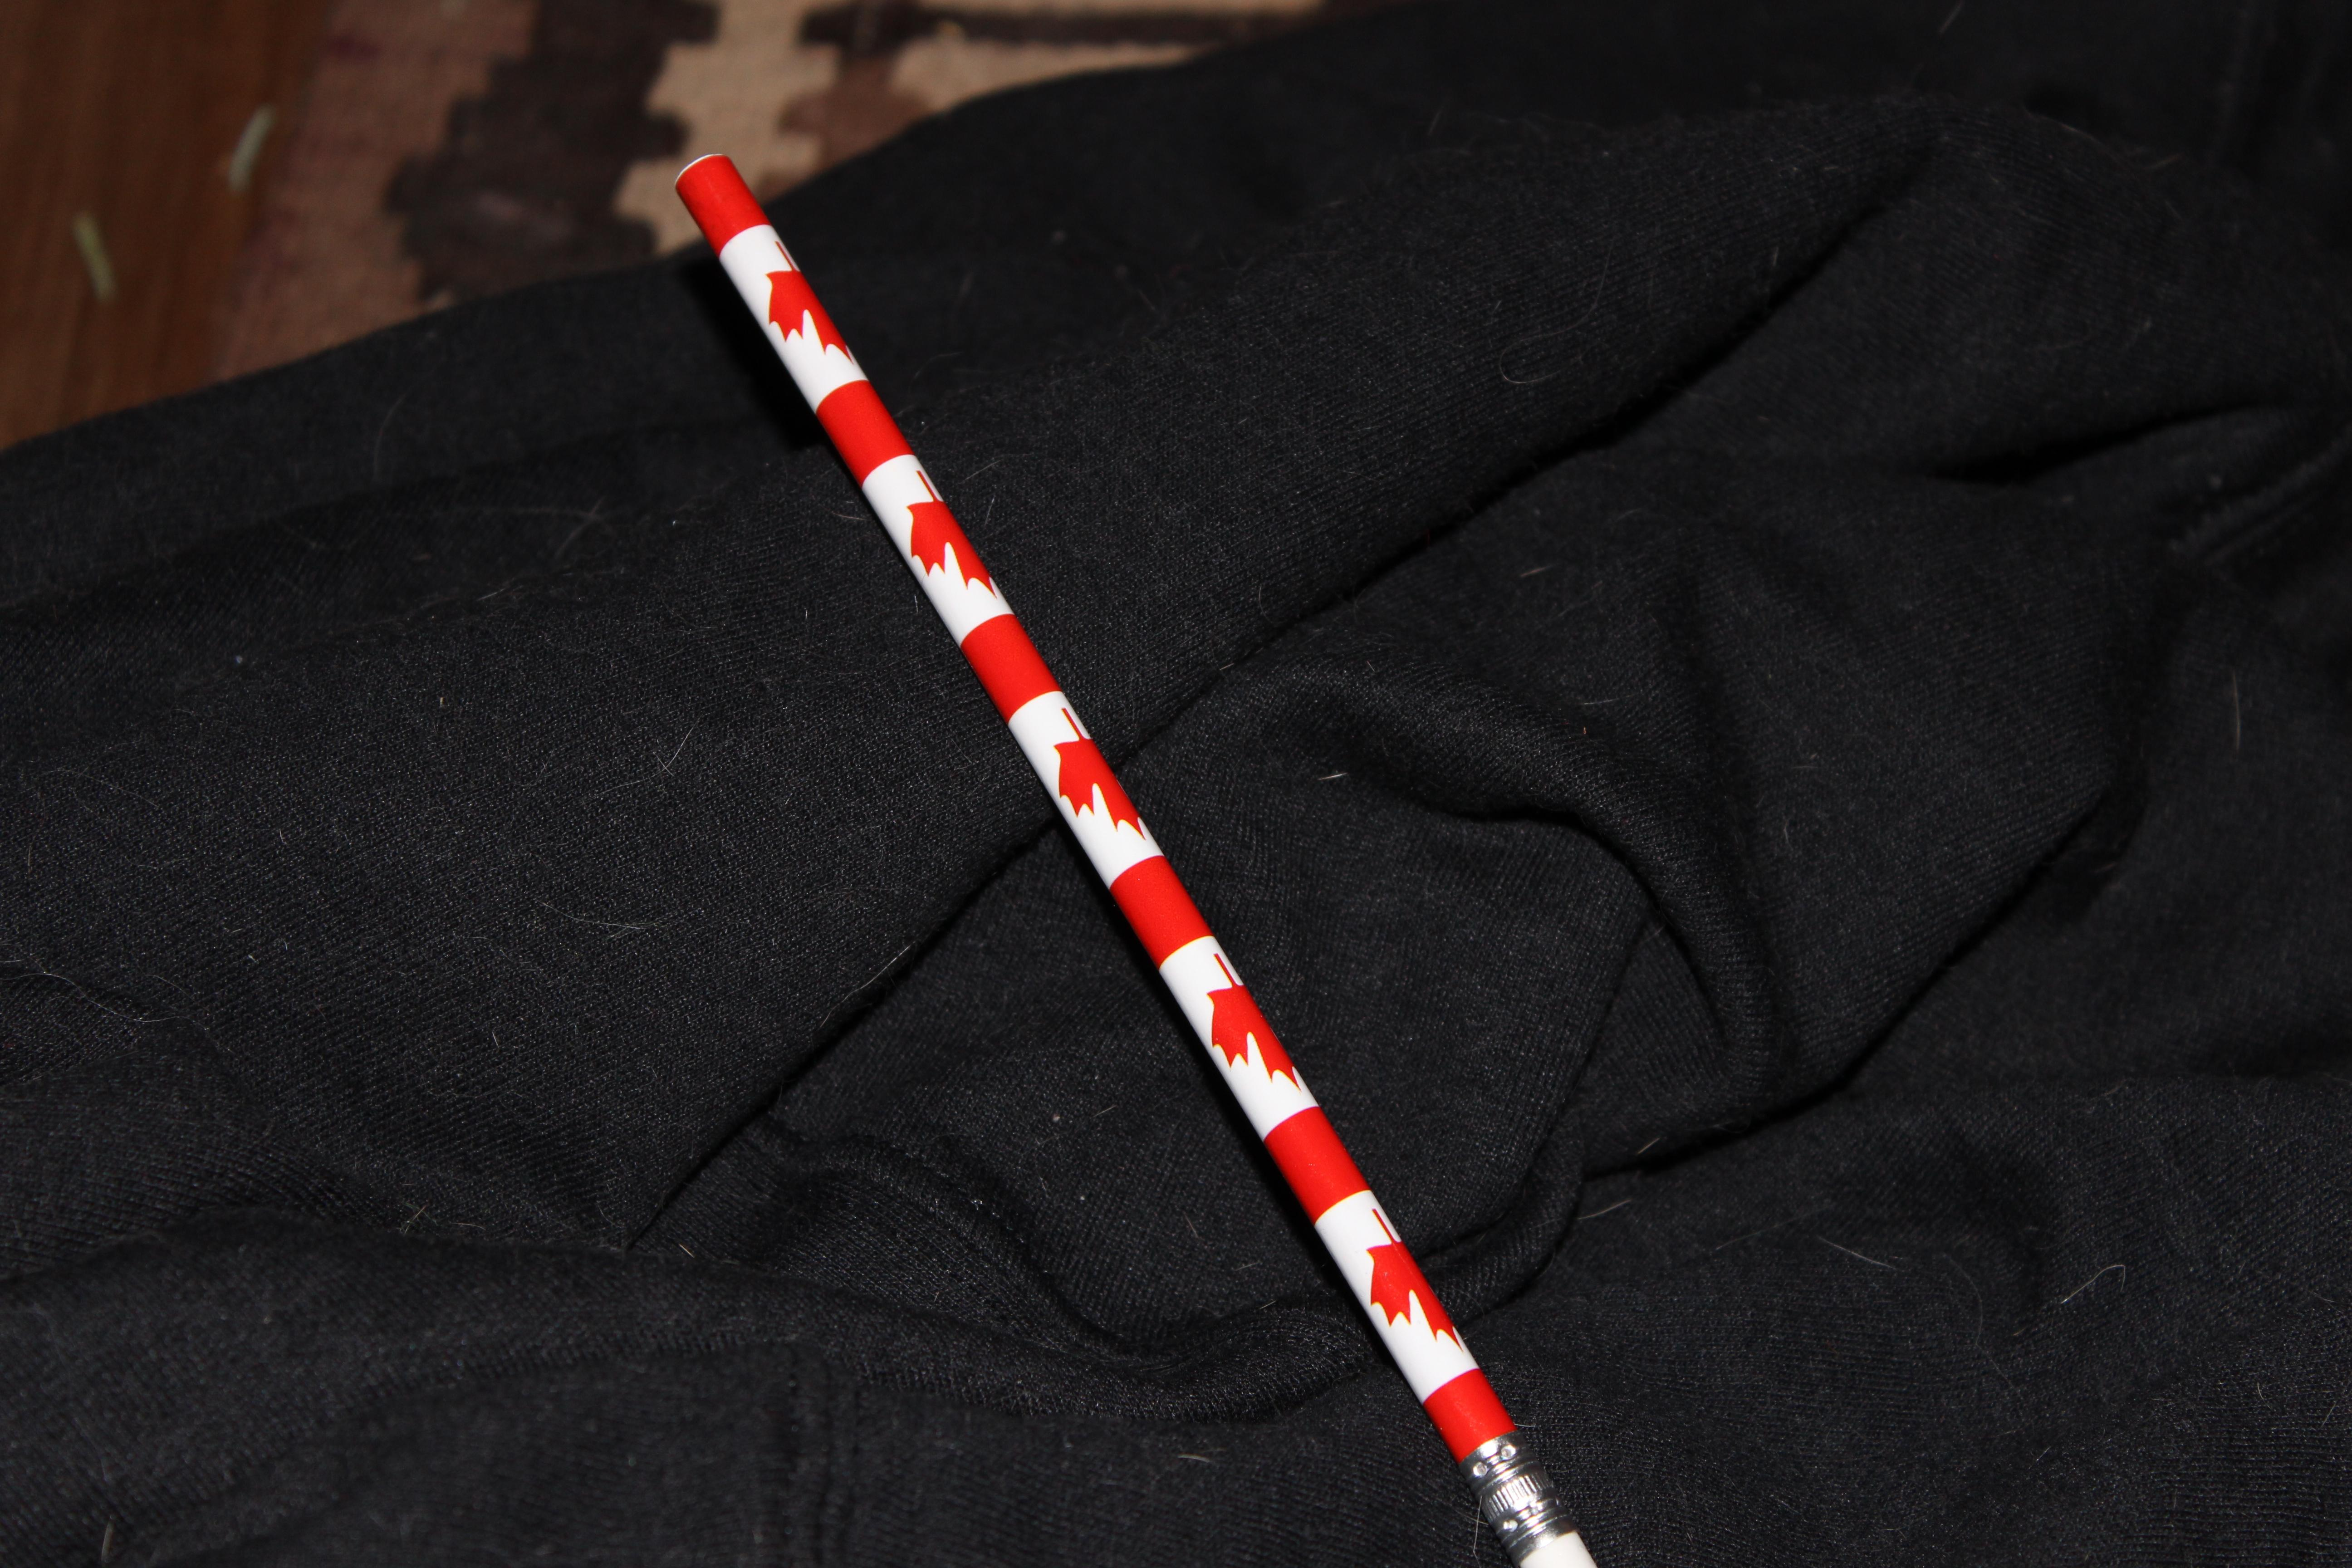canadaPencil: (639, 131, 1696, 1568)
